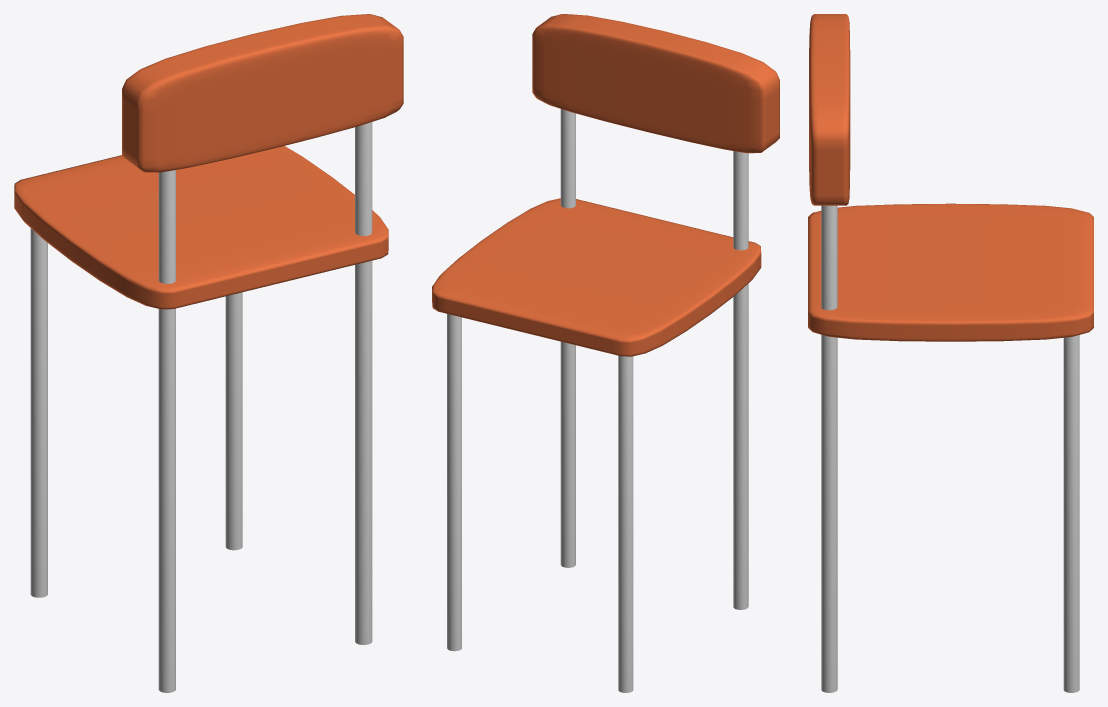
File: sandalye.fbx
3 renders of one model, left to right at view 1: azimuth 30°, elevation 25°; view 2: azimuth 150°, elevation 25°; view 3: azimuth 270°, elevation 25°, orthographic. The views are drawn at different scales.
Parts seen in each view (by area): view 1: Plane, Plane.001, Cylinder.001, Cylinder, Cylinder.003, Cylinder.002; view 2: Plane, Plane.001, Cylinder.001, Cylinder.003, Cylinder, Cylinder.002; view 3: Plane, Plane.001, Cylinder, Cylinder.002.
Boxes of the visible parts, <box> form: Plane: <box>14,146,388,309</box>; Plane.001: <box>122,14,403,172</box>; Cylinder.001: <box>158,170,175,692</box>; Cylinder: <box>355,122,372,644</box>; Cylinder.003: <box>30,228,47,597</box>; Cylinder.002: <box>225,292,242,550</box>; Plane: <box>432,198,761,356</box>; Plane.001: <box>532,14,779,153</box>; Cylinder.001: <box>733,151,748,609</box>; Cylinder.003: <box>618,355,633,692</box>; Cylinder: <box>560,109,575,567</box>; Cylinder.002: <box>447,314,461,651</box>; Plane: <box>808,203,1093,341</box>; Plane.001: <box>809,14,850,205</box>; Cylinder: <box>821,205,837,692</box>; Cylinder.002: <box>1063,335,1079,692</box>.
Size of the model in its own units: 202 by 451 by 200.
